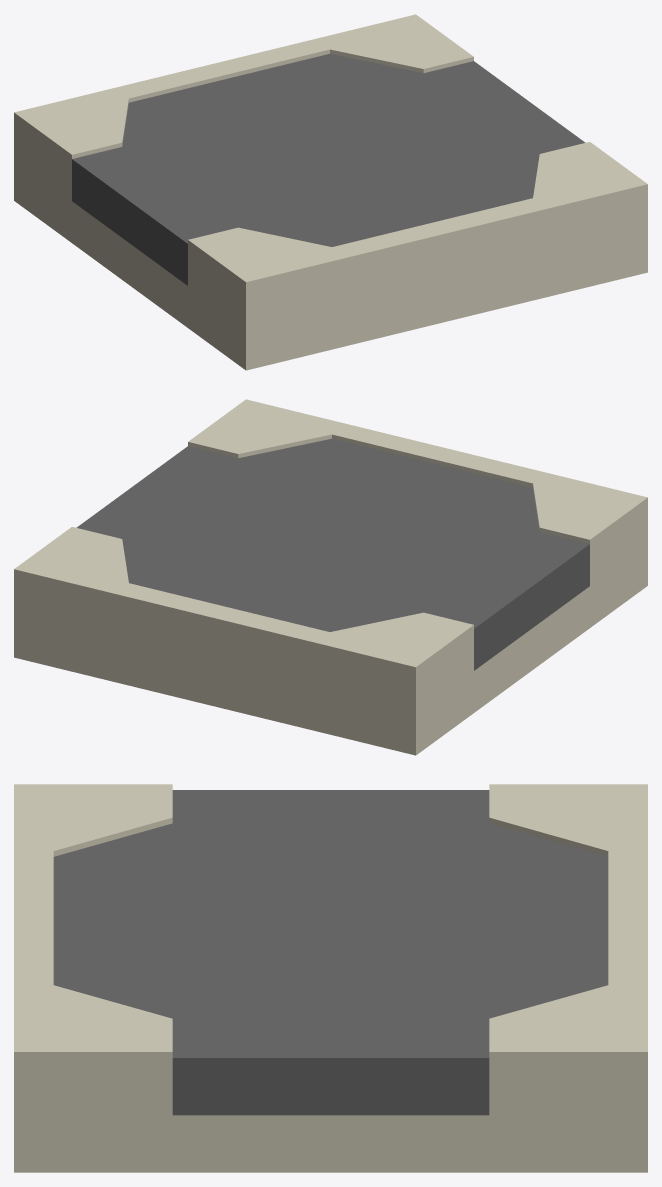
Rendered from tile010.fbx.
3 renders of one model, top to bottom at view 1: azimuth 30°, elevation 25°; view 2: azimuth 150°, elevation 25°; view 3: azimuth 270°, elevation 25°, orthographic. The views are drawn at different scales.
Visible parts, largest first — view 1: tile010; view 2: tile010; view 3: tile010.
Boxes of the visible parts, left/top/right/bottom form: tile010: left=14, top=14, right=647, bottom=370; tile010: left=14, top=399, right=647, bottom=755; tile010: left=14, top=784, right=647, bottom=1172.
Size of the model in its own units: 10 by 2.1 by 10.
